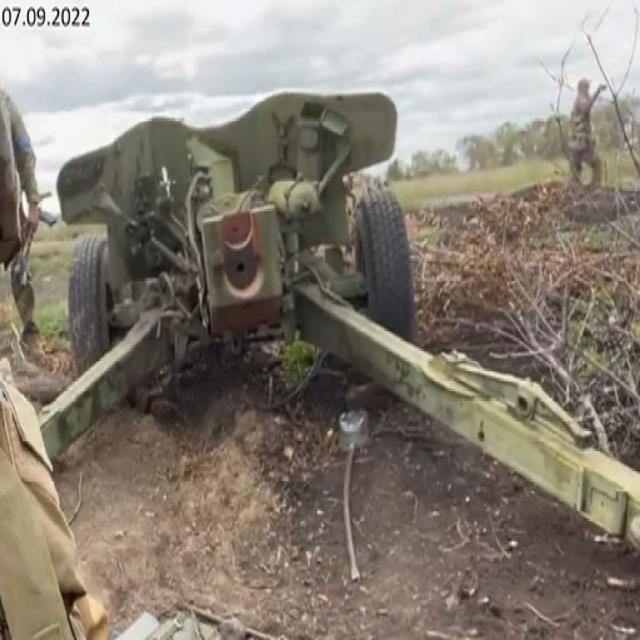ART: (34, 91, 638, 553)
